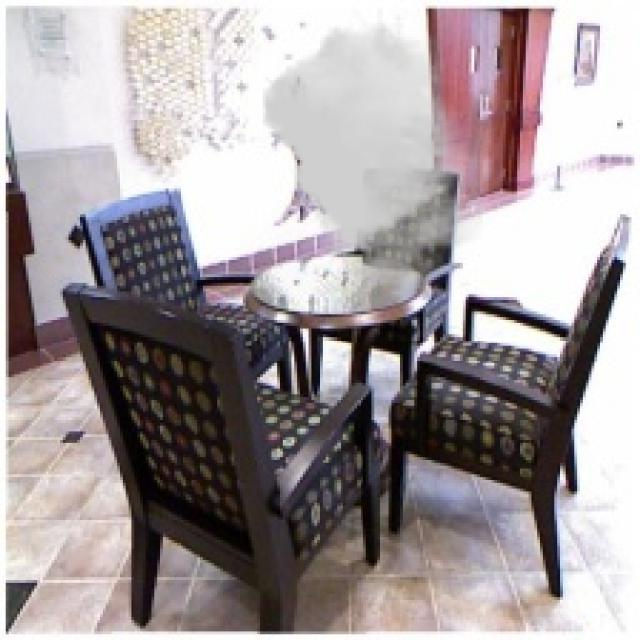smoke: (263, 23, 483, 288)
